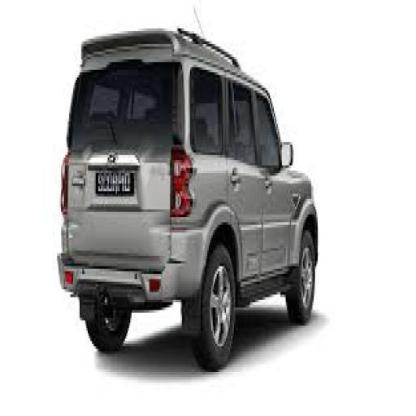car: (54, 22, 323, 375)
